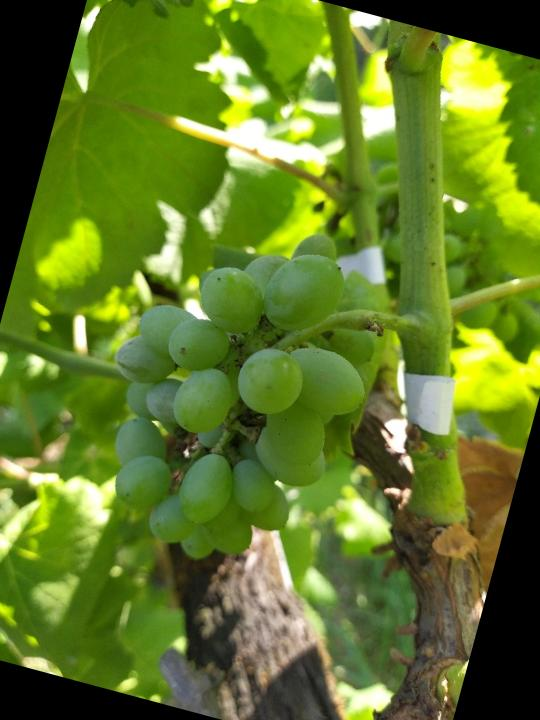grape: (67, 189, 403, 595)
